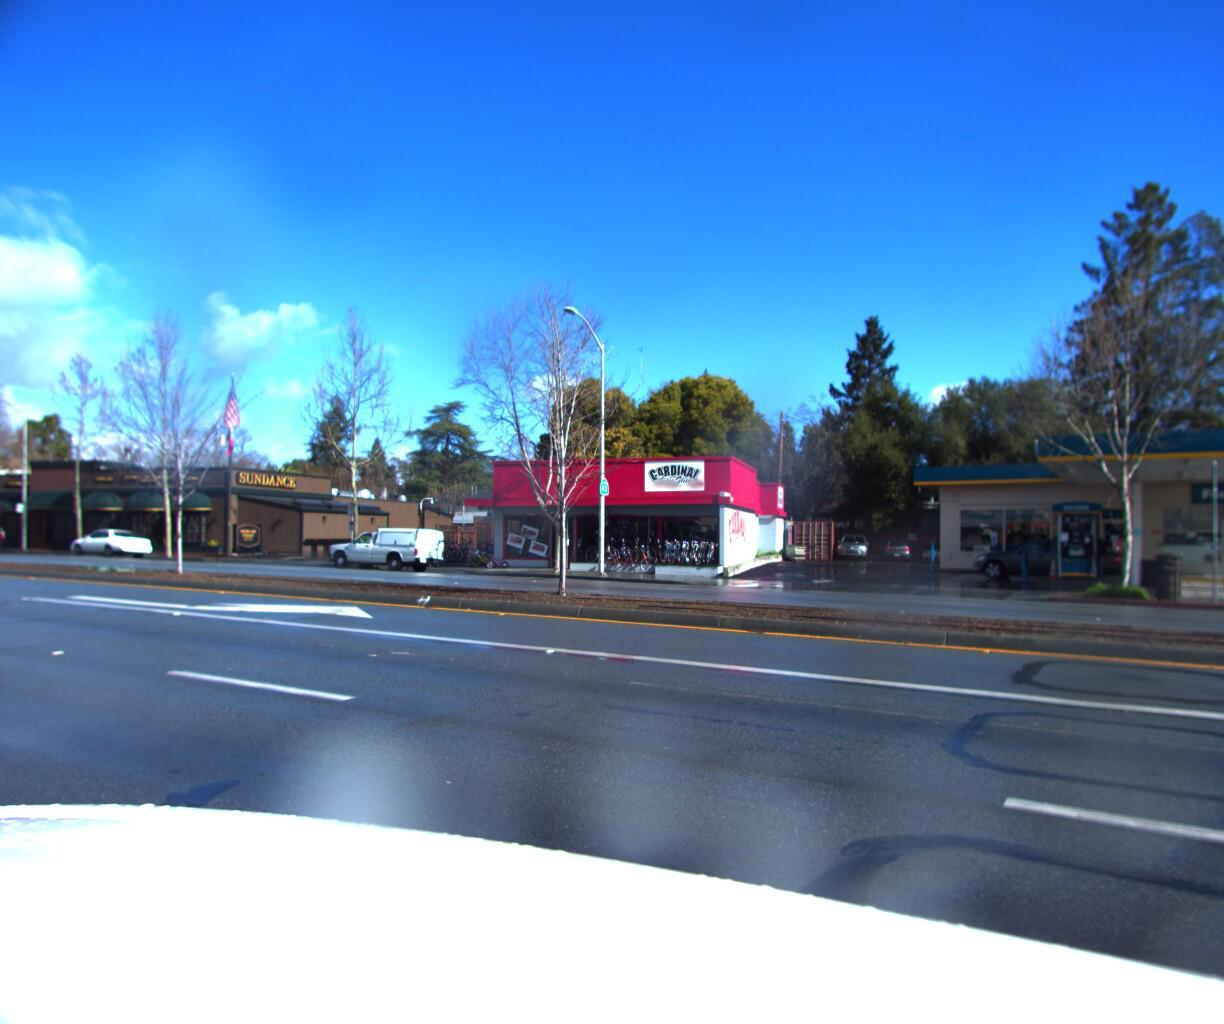car: (958, 524, 1130, 588), (318, 527, 455, 574), (58, 531, 157, 568)
